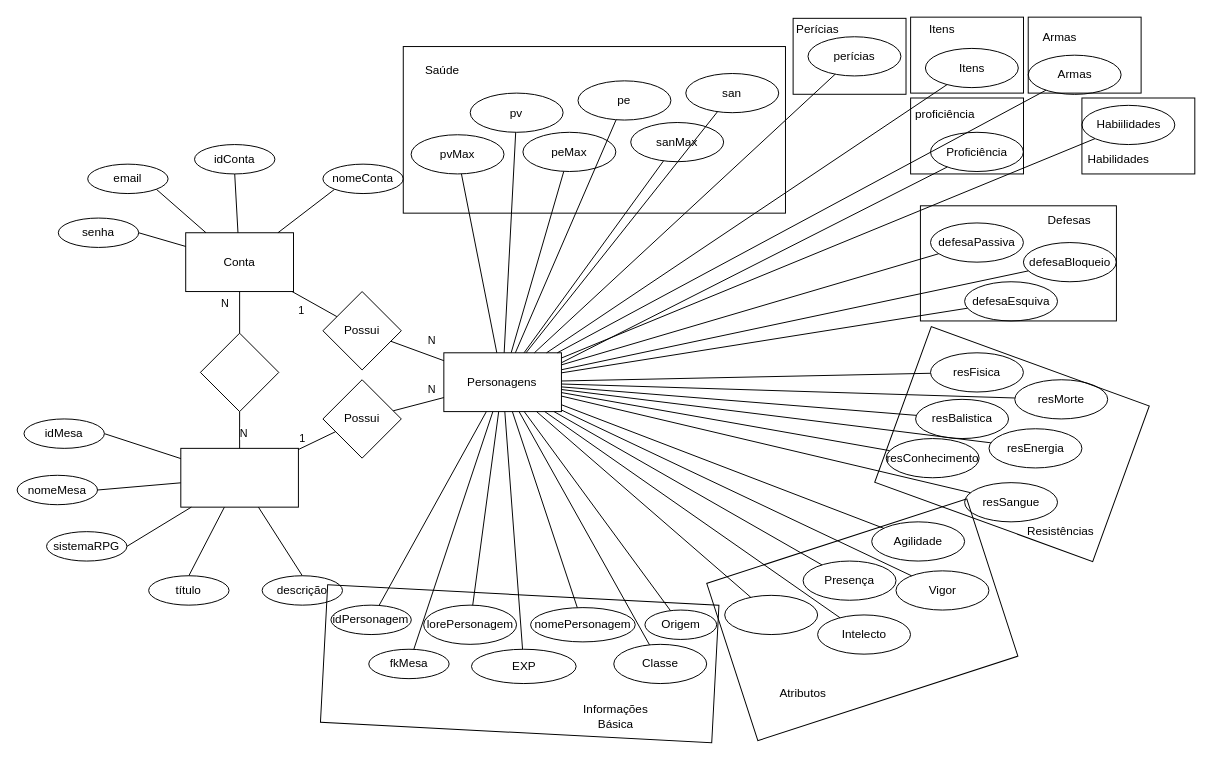
Image size: 1212x760. Some labels were removed from this diagram. Here are the shapes that lost their labels. From the top down, the centre of each, then its label:
At (239,372): "Faz parte de".
At (239,477): "Mesa".
At (771,614): "Força".
